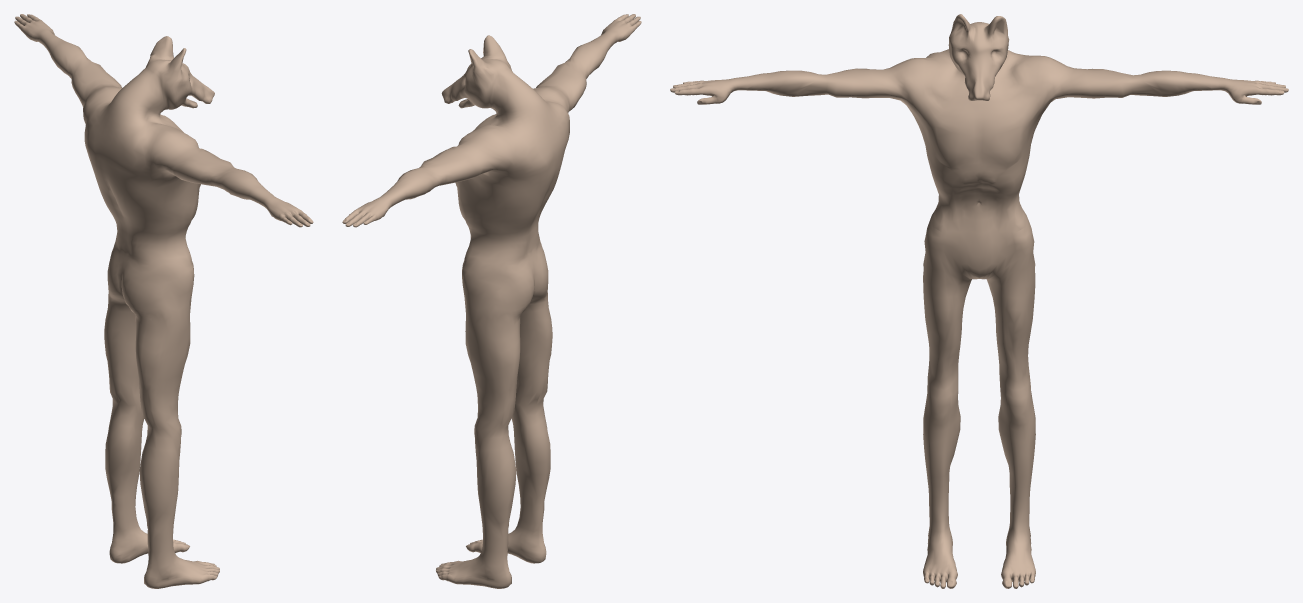
File: hairy werewolf.fbx
The picture shows the model from 3 angles, left to right: view 1: azimuth 30°, elevation 25°; view 2: azimuth 150°, elevation 25°; view 3: azimuth 270°, elevation 25°; orthographic projection. The views are drawn at different scales.
Visible parts, largest first — view 1: werewolf_base_body-male_muscle_13290; view 2: werewolf_base_body-male_muscle_13290; view 3: werewolf_base_body-male_muscle_13290.
Boxes of the visible parts, x1=… form: werewolf_base_body-male_muscle_13290: x1=14, y1=14, x2=313, y2=588; werewolf_base_body-male_muscle_13290: x1=342, y1=14, x2=641, y2=588; werewolf_base_body-male_muscle_13290: x1=670, y1=14, x2=1288, y2=588.
Bounding box in the file's own units: 56.3 × 246 × 245.
